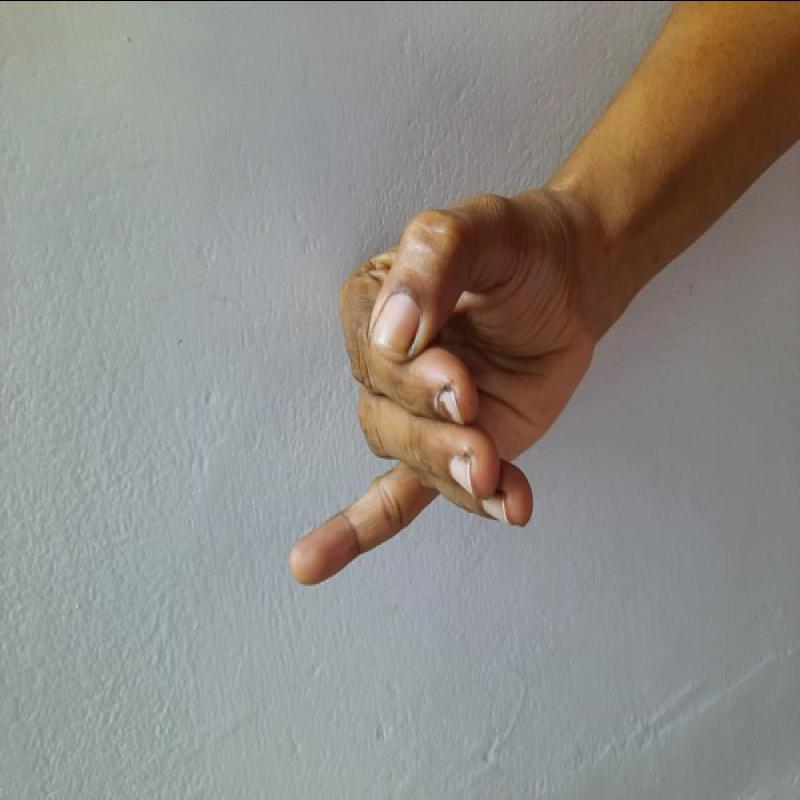Kartharee Mukham: (264, 185, 620, 600)
